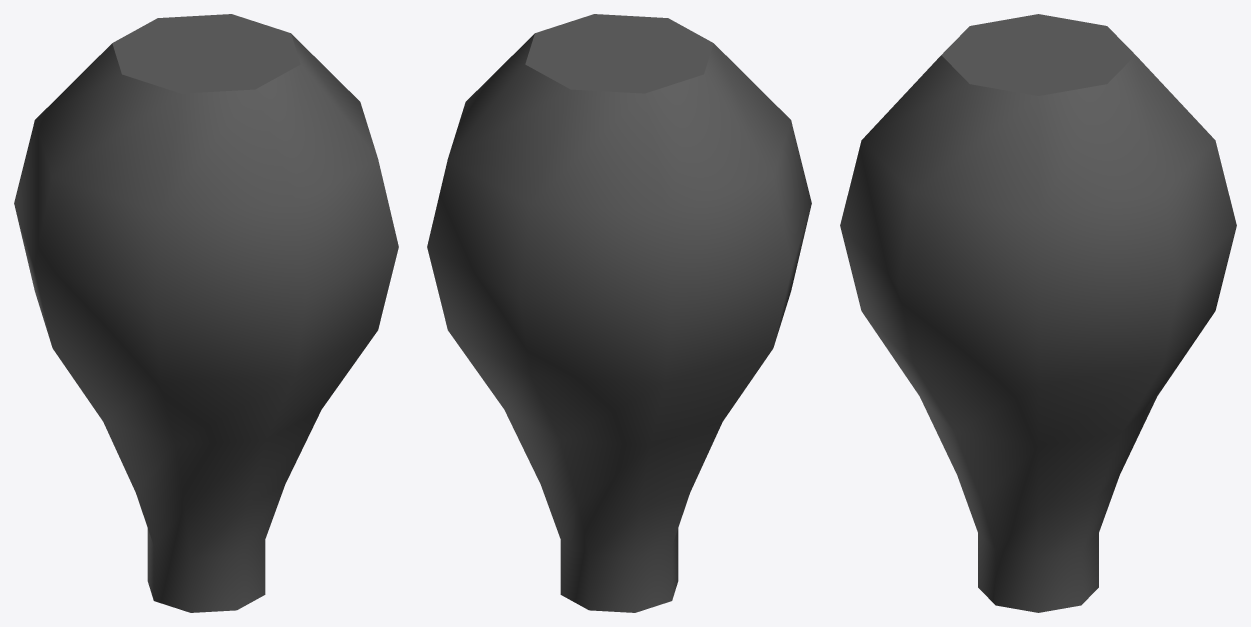
The model's file is Itr_Lamp_Light_Off_01.FBX.
3 views of the same model, side by side, from view 1: azimuth 30°, elevation 25°; view 2: azimuth 150°, elevation 25°; view 3: azimuth 270°, elevation 25° (orthographic).
Parts seen in each view (by area): view 1: Itr_Lamp_Light_Off_01; view 2: Itr_Lamp_Light_Off_01; view 3: Itr_Lamp_Light_Off_01.
Boxes of the visible parts, <box> form: Itr_Lamp_Light_Off_01: <box>14,14,398,612</box>; Itr_Lamp_Light_Off_01: <box>427,14,811,612</box>; Itr_Lamp_Light_Off_01: <box>840,14,1236,612</box>.
Size of the model in its own units: 1.89 by 2.8 by 1.89.
